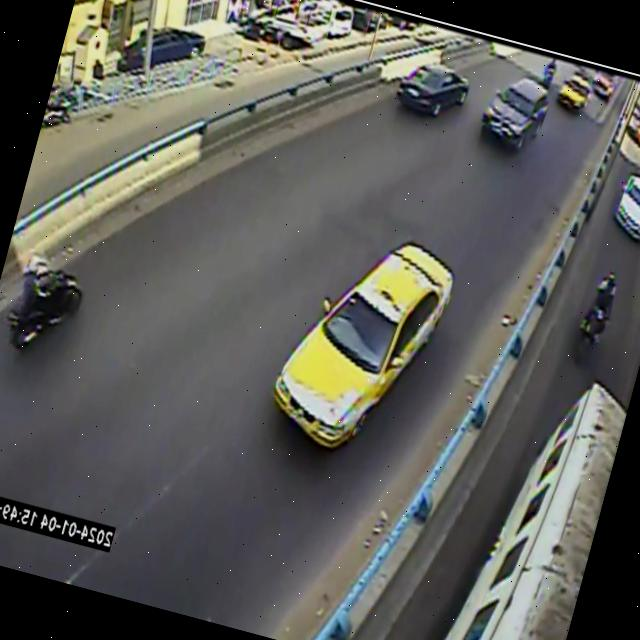car: (274, 242, 453, 448), (481, 77, 548, 150), (396, 63, 469, 116), (557, 72, 591, 111), (592, 72, 614, 102)
